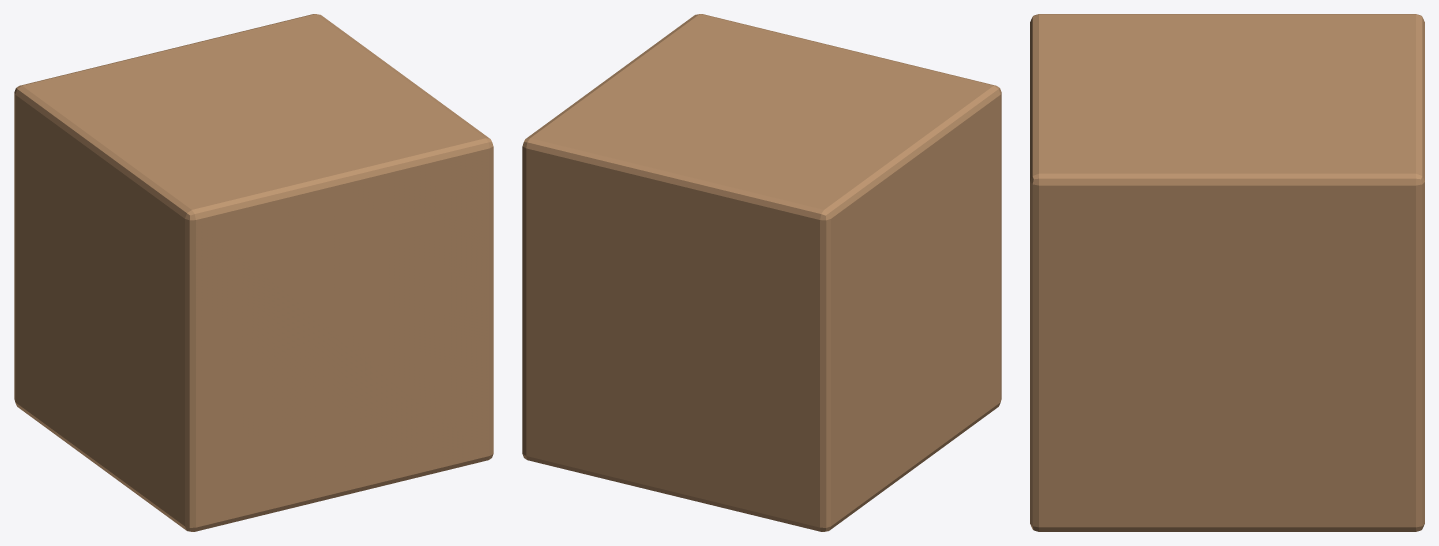
Rendered from challenge.glb.
The picture shows the model from 3 angles, left to right: view 1: azimuth 30°, elevation 25°; view 2: azimuth 150°, elevation 25°; view 3: azimuth 270°, elevation 25°; orthographic projection. The views are drawn at different scales.
Parts seen in each view (by area): view 1: Cube; view 2: Cube; view 3: Cube.
Boxes of the visible parts, x1,y1,x2,y2 form: Cube: (14, 14, 493, 531); Cube: (522, 14, 1001, 531); Cube: (1030, 14, 1424, 531).
Size of the model in its own units: 2 by 2 by 2.
